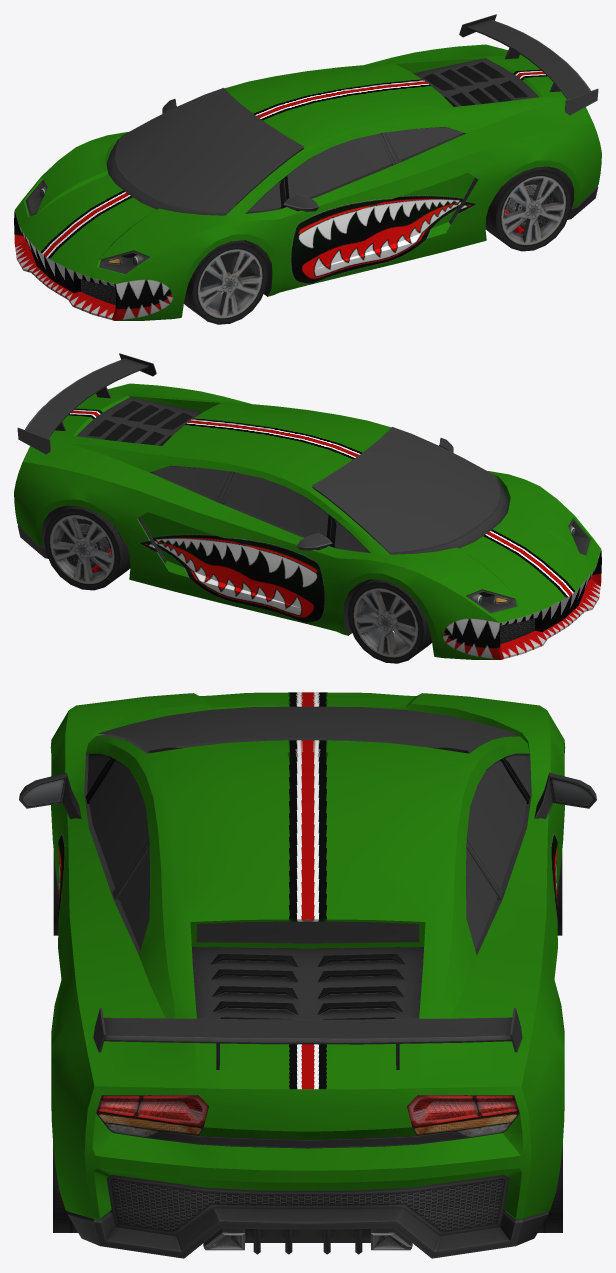
Rendered from car_10.FBX.
3 views of the same model, one above another, from view 1: azimuth 30°, elevation 25°; view 2: azimuth 150°, elevation 25°; view 3: azimuth 270°, elevation 25° (orthographic). The views are drawn at different scales.
Parts seen in each view (by area): view 1: car_10; view 2: car_10; view 3: car_10.
Boxes of the visible parts, bbox=[...] form: car_10: bbox=[14, 14, 601, 324]; car_10: bbox=[14, 353, 601, 663]; car_10: bbox=[19, 692, 596, 1258].
Size of the model in its own units: 65.89 by 17.5 by 31.87.
